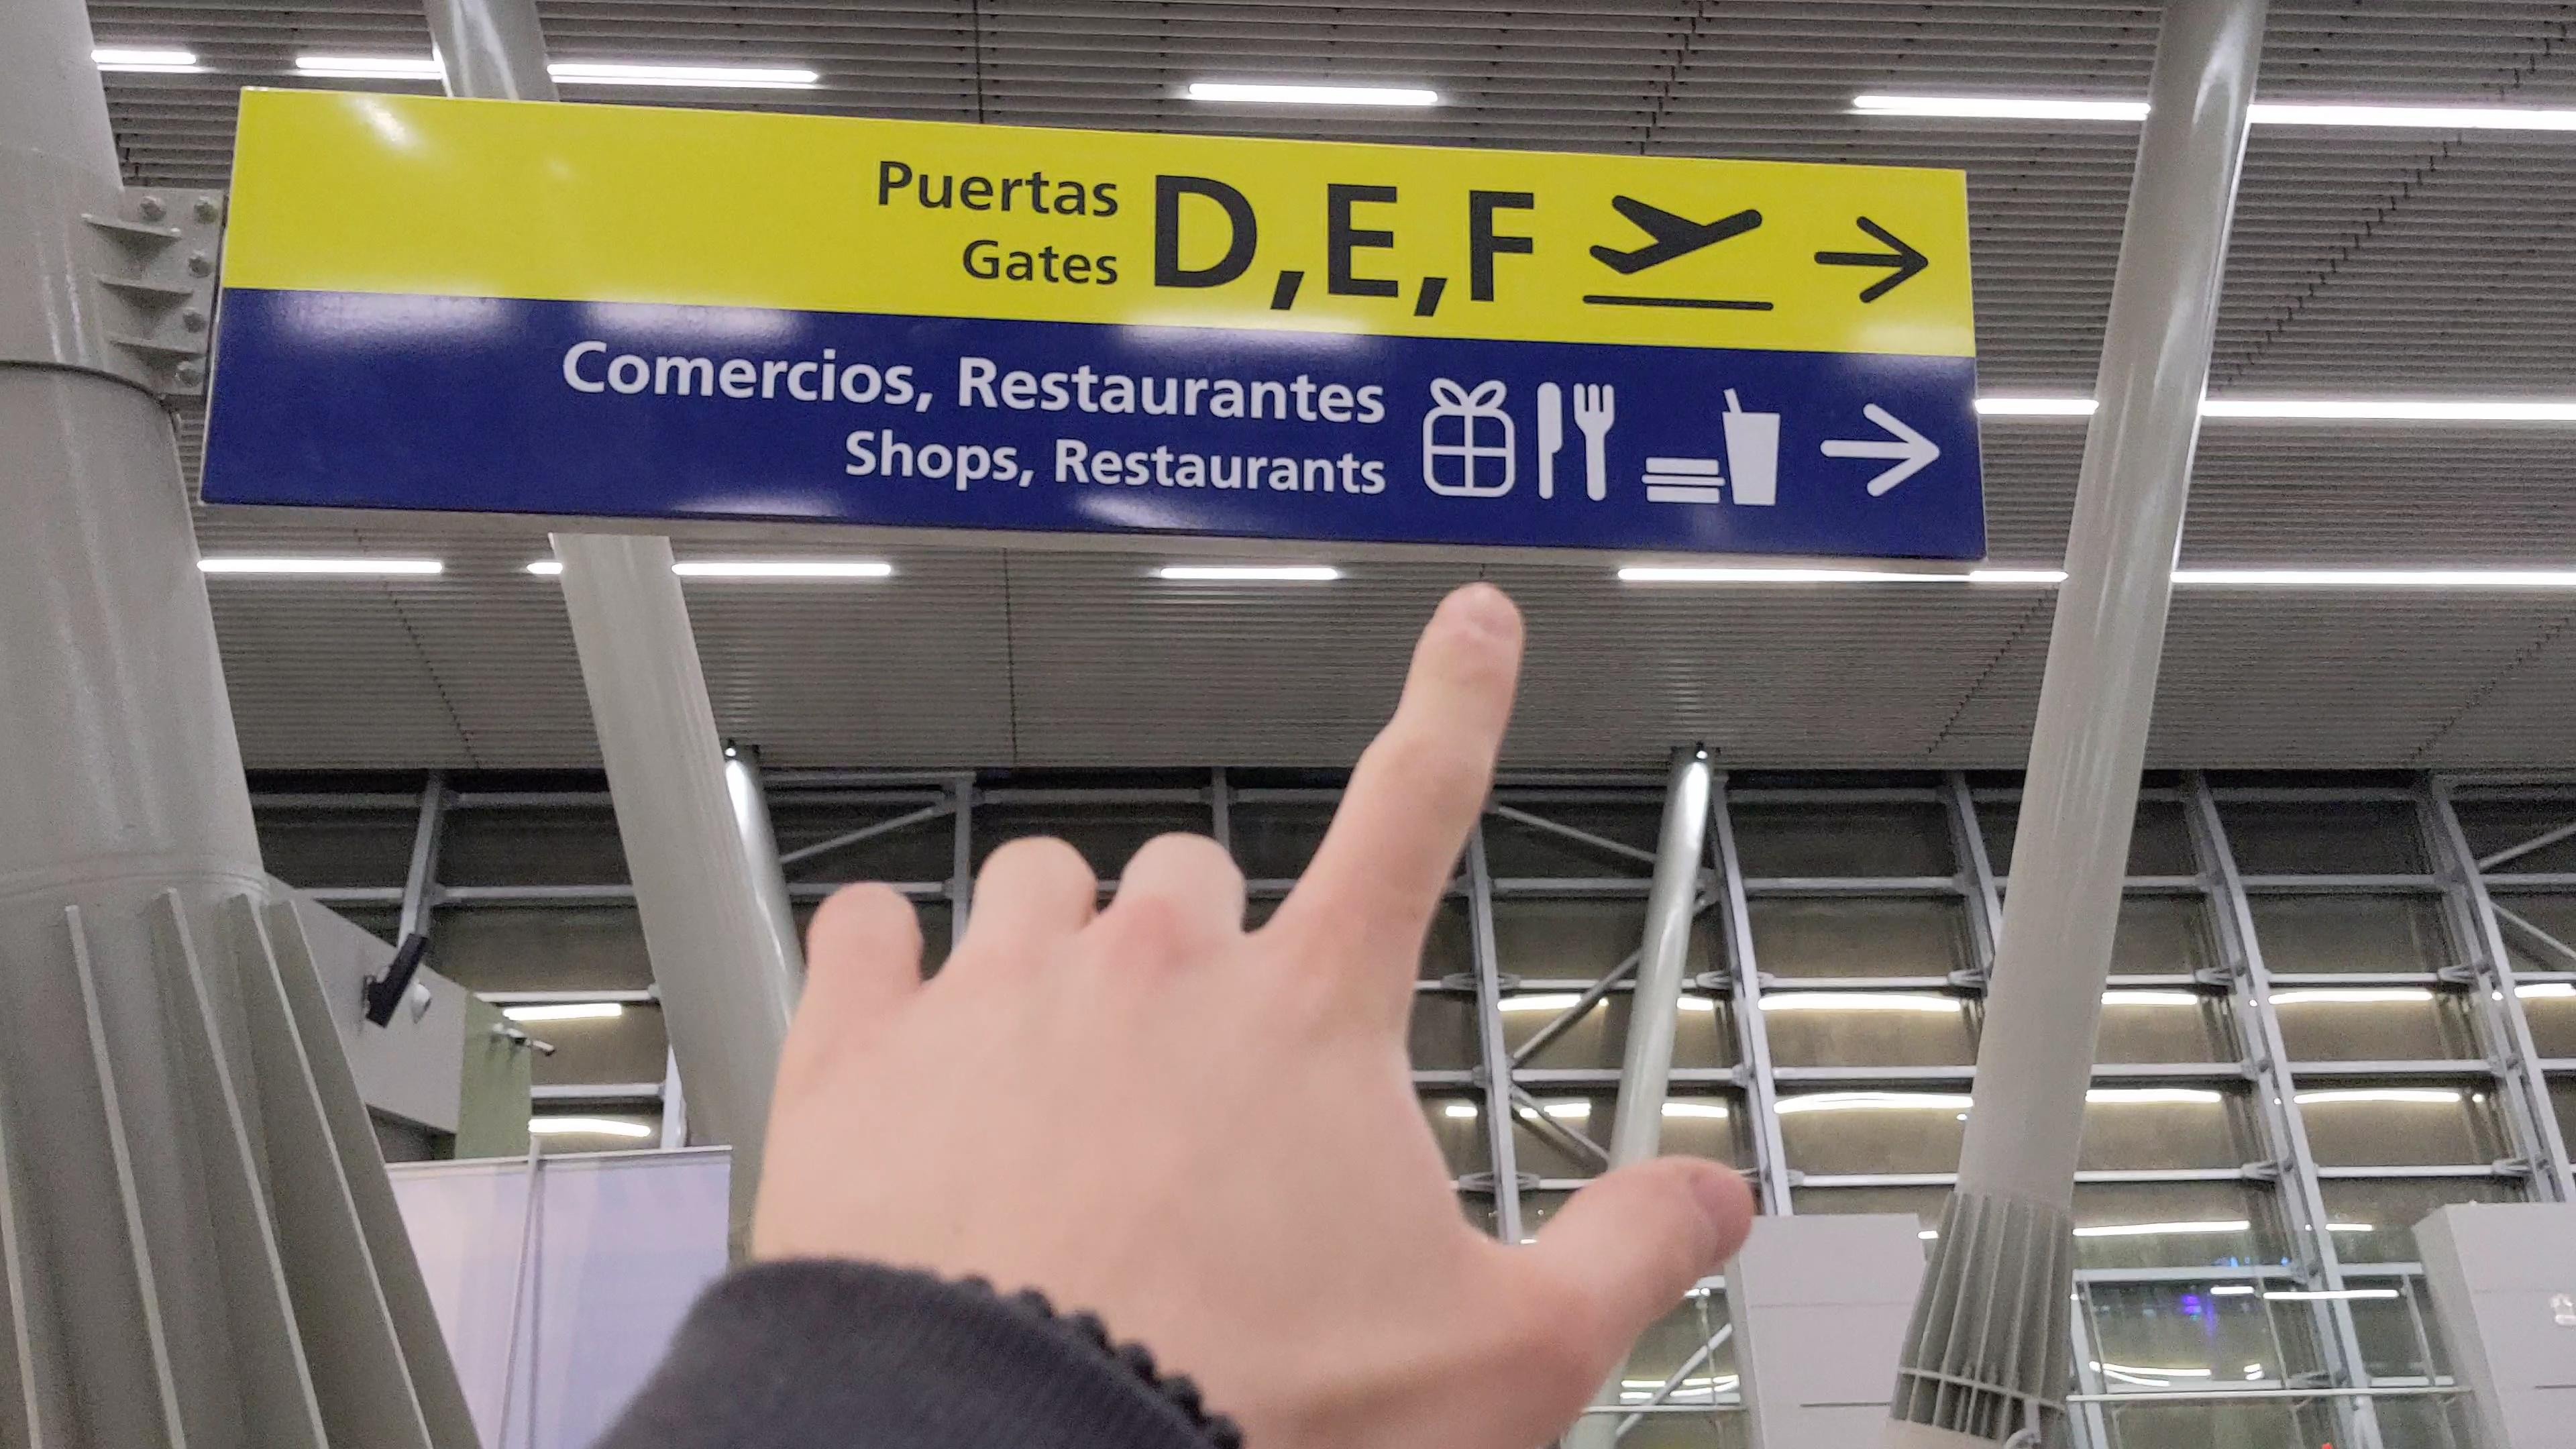airplane symbol: (1585, 188, 1769, 283)
restaurants: (1532, 379, 1626, 502)
thin right arrow: (1803, 216, 1955, 310), (1813, 400, 1959, 497)
